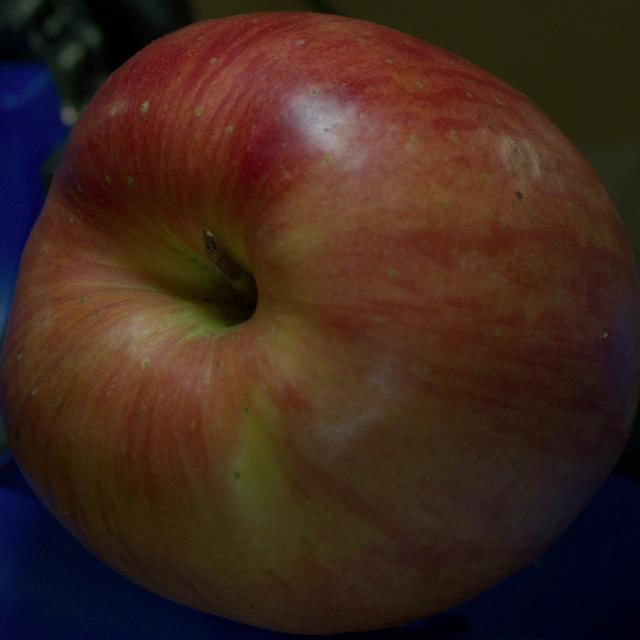apple: (0, 13, 639, 633)
